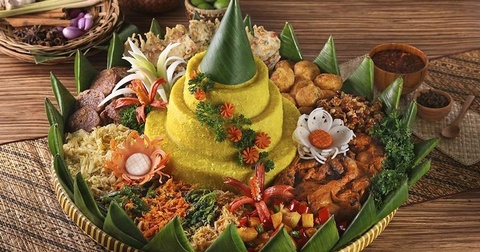nasi_tumpeng: (67, 1, 395, 250)
